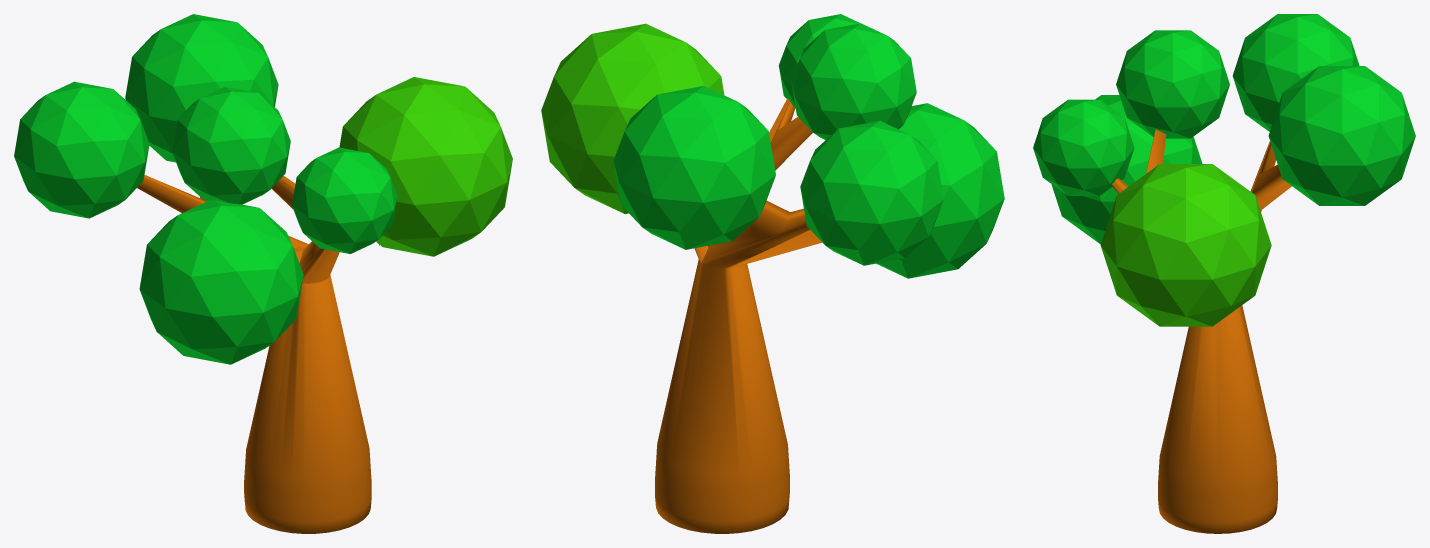
Rendered from tree2.fbx.
3 renders of one model, left to right at view 1: azimuth 30°, elevation 25°; view 2: azimuth 150°, elevation 25°; view 3: azimuth 270°, elevation 25°, orthographic. The views are drawn at different scales.
Parts seen in each view (by area): view 1: Icosphere.005, Cylinder; view 2: Icosphere.005, Cylinder; view 3: Icosphere.005, Cylinder.
Part boxes in pixels (x1=…): Icosphere.005: x1=14, y1=14, x2=512, y2=364; Cylinder: x1=137, y1=175, x2=379, y2=533; Icosphere.005: x1=541, y1=14, x2=1004, y2=278; Cylinder: x1=655, y1=98, x2=821, y2=533; Icosphere.005: x1=1033, y1=14, x2=1415, y2=326; Cylinder: x1=1111, y1=129, x2=1291, y2=533.
Bounding box in the file's own units: 135 × 142 × 115.
